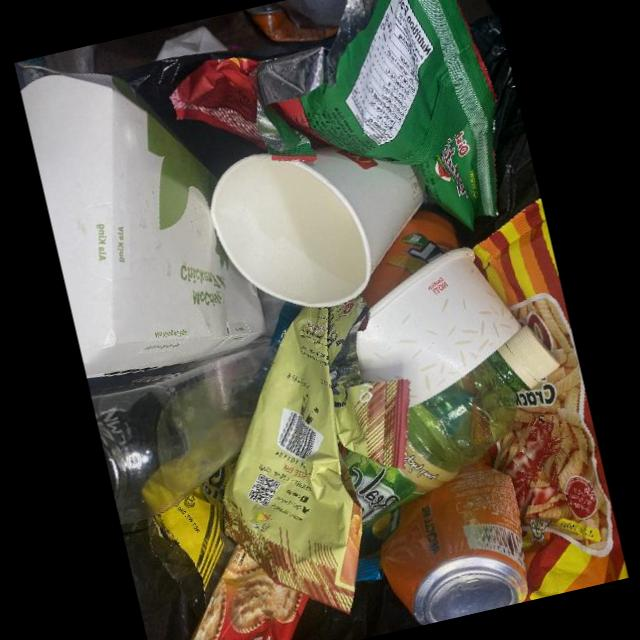bao_bi_thuc_pham: (170, 0, 498, 227), (473, 196, 628, 602), (224, 295, 410, 613), (147, 452, 238, 616), (189, 545, 309, 640), (356, 505, 401, 580), (269, 301, 301, 348)
carton: (20, 73, 265, 378)
chai_nhua_pet: (343, 325, 560, 521)
chai_thuy_tinh: (89, 335, 271, 524)
nhom: (380, 458, 528, 625), (361, 208, 461, 307), (244, 2, 338, 41)
